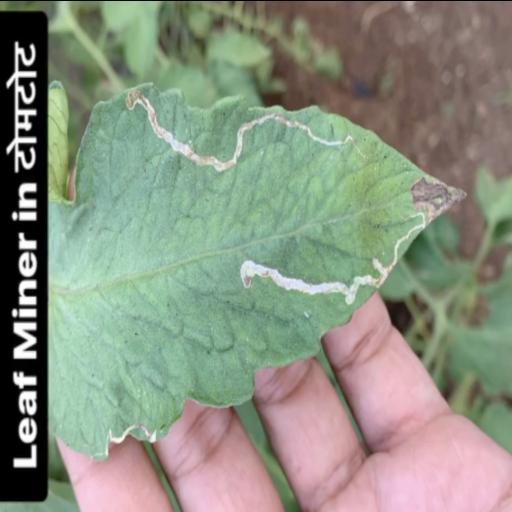Leaf Miner: (46, 76, 466, 458)
